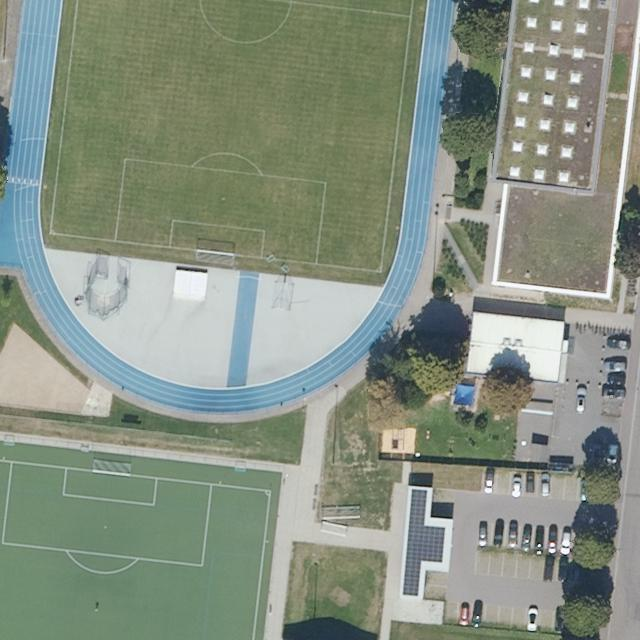PV: (398, 488, 448, 601)
